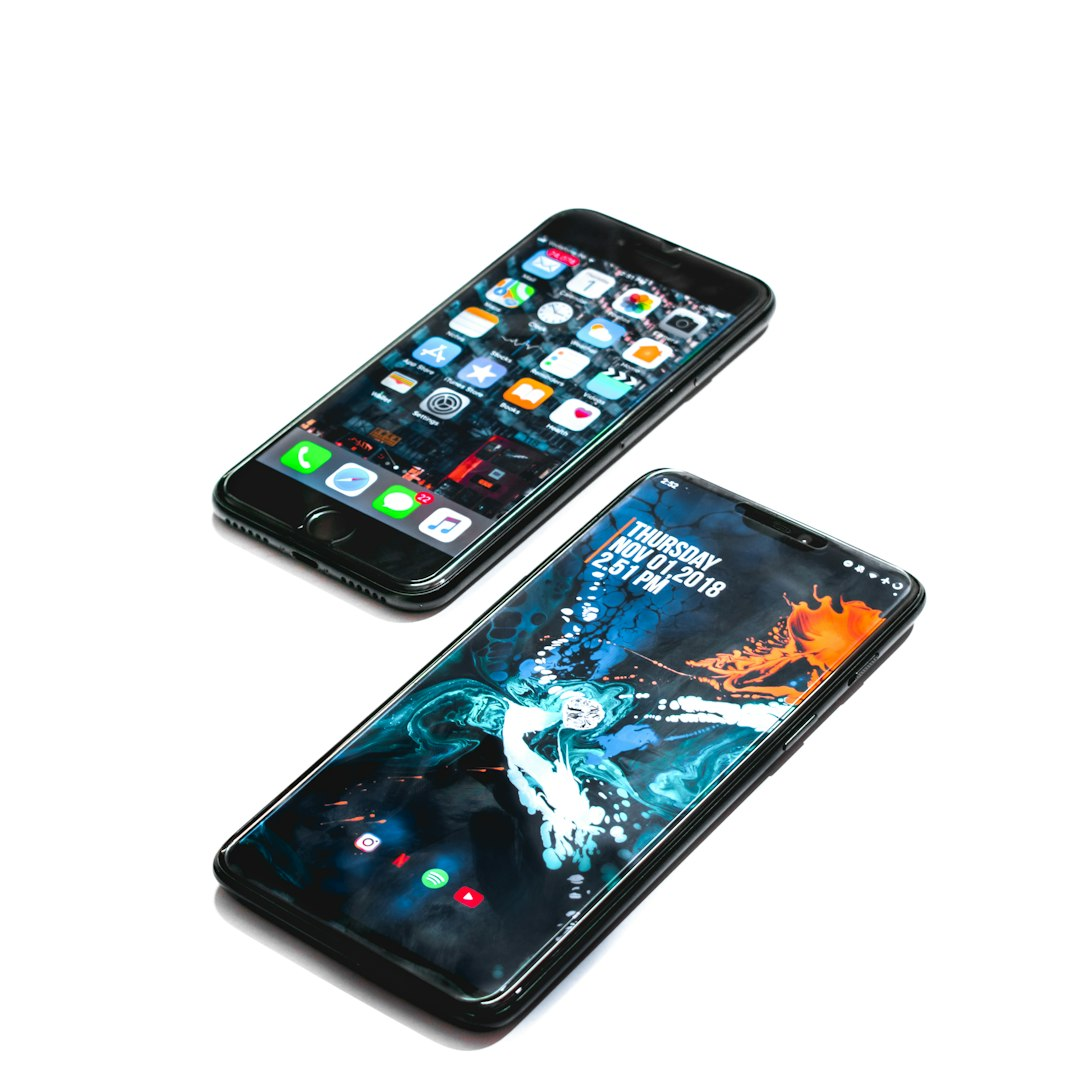phone: (211, 466, 924, 1043), (204, 208, 778, 618)
